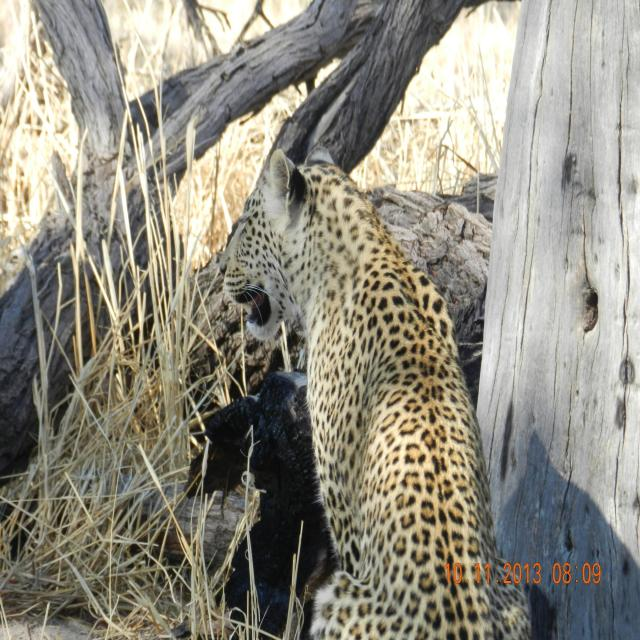Leopard: (241, 160, 566, 639)
